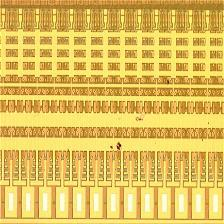PARTICLE: (110, 80, 215, 154)
